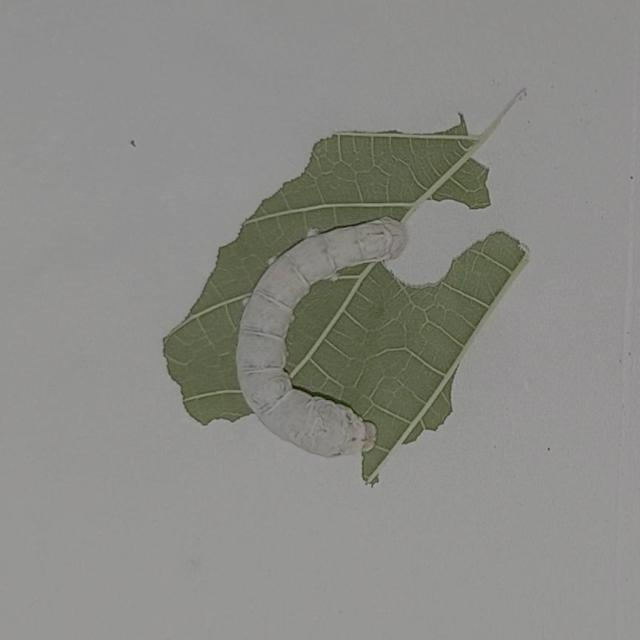Healthy: (225, 198, 422, 478)
